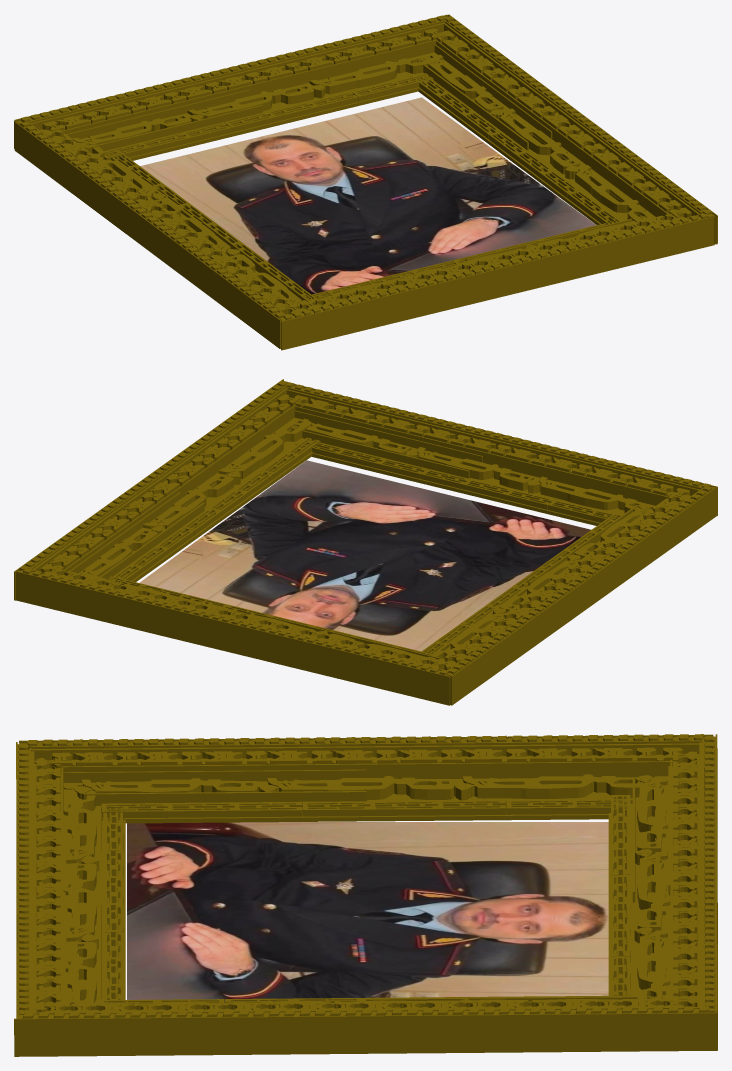
File: frame.obj
3 views of the same model, one above another, from view 1: azimuth 30°, elevation 25°; view 2: azimuth 150°, elevation 25°; view 3: azimuth 270°, elevation 25° (orthographic). The views are drawn at different scales.
Visible parts, largest first — view 1: photo_2024-12-24_02-48-55, mona_lisa.000, mona_lisa.026, mona_lisa.002, mona_lisa.001; view 2: photo_2024-12-24_02-48-55, mona_lisa.002, mona_lisa.026, mona_lisa.000, mona_lisa.001; view 3: photo_2024-12-24_02-48-55, mona_lisa.001, mona_lisa.026, mona_lisa.000, mona_lisa.002.
Part boxes in pixels (left/top/right/bottom): photo_2024-12-24_02-48-55: left=140, top=97, right=595, bottom=294; mona_lisa.000: left=14, top=14, right=447, bottom=160; mona_lisa.026: left=410, top=14, right=717, bottom=244; mona_lisa.002: left=279, top=213, right=714, bottom=350; mona_lisa.001: left=14, top=121, right=316, bottom=348; photo_2024-12-24_02-48-55: left=139, top=460, right=590, bottom=651; mona_lisa.002: left=285, top=382, right=717, bottom=525; mona_lisa.026: left=14, top=379, right=320, bottom=600; mona_lisa.000: left=16, top=567, right=450, bottom=705; mona_lisa.001: left=421, top=486, right=717, bottom=705; photo_2024-12-24_02-48-55: left=127, top=822, right=608, bottom=1002; mona_lisa.001: left=19, top=734, right=713, bottom=823; mona_lisa.026: left=14, top=995, right=717, bottom=1056; mona_lisa.000: left=608, top=734, right=717, bottom=1033; mona_lisa.002: left=16, top=742, right=125, bottom=1018.
Bounding box in the file's own units: 1.35 × 0.1181 × 1.45.
